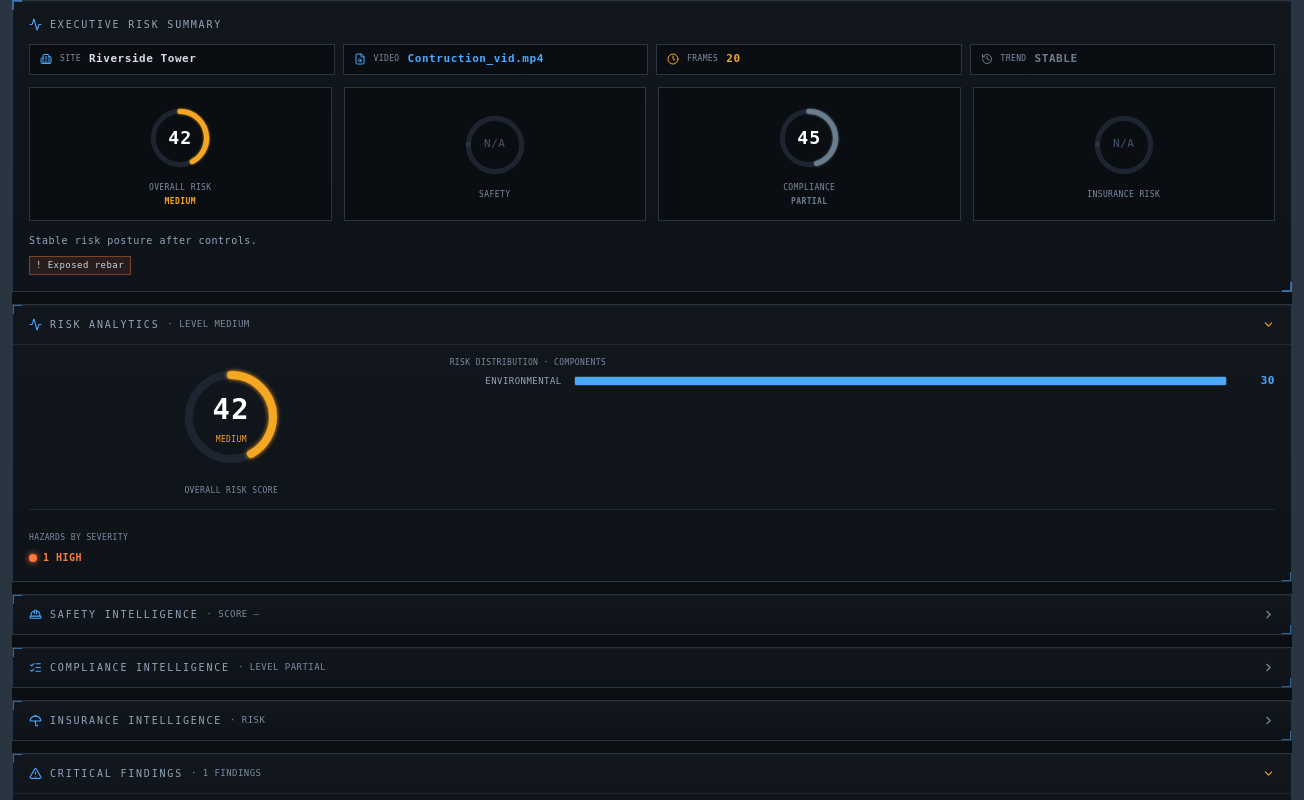
Scenario: ReportSections › renders compliance sections (ListChecks icon path) without crashing
Click the button "COMPLIANCE INTELLIGENCE · LEVEL PARTIAL" at point(140, 668), box [13,648,1291,687]
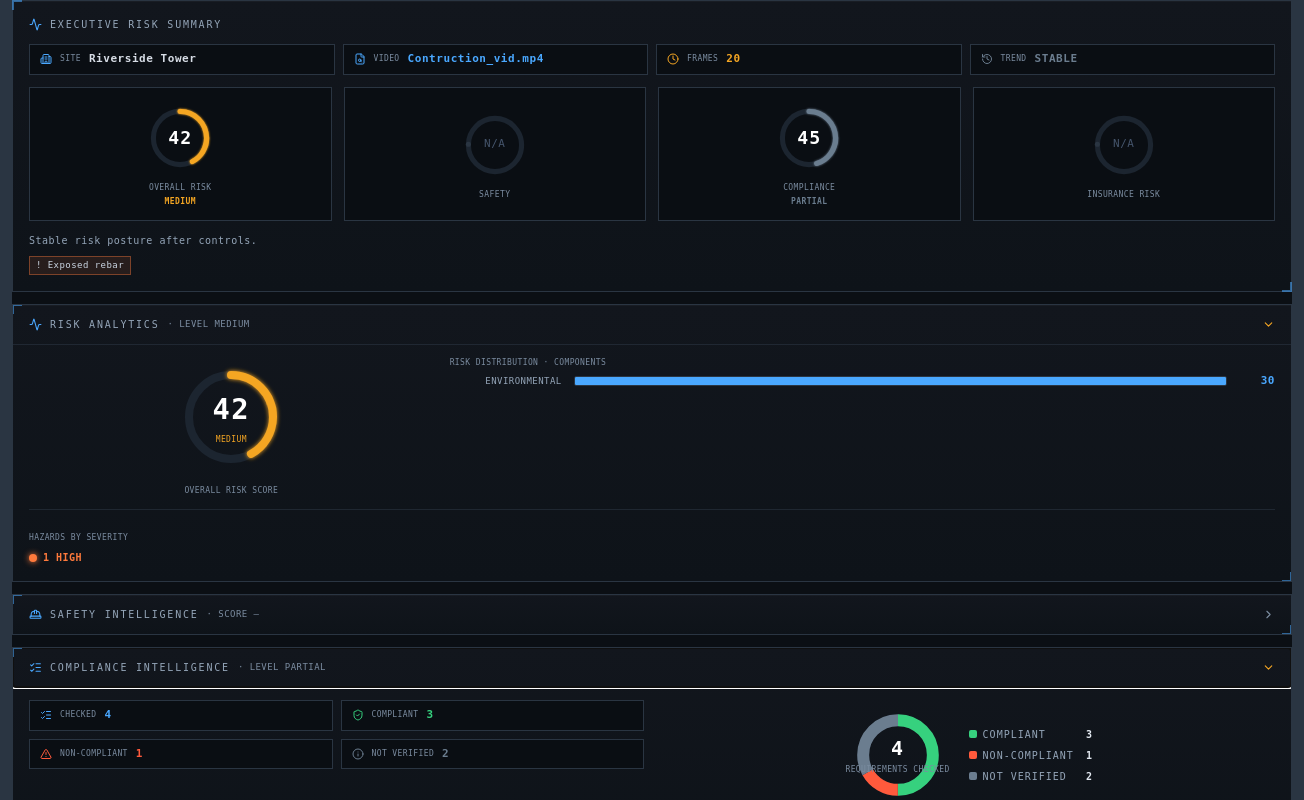
Expected: the text "CHECKED" is shown, [60,709,96,721]
